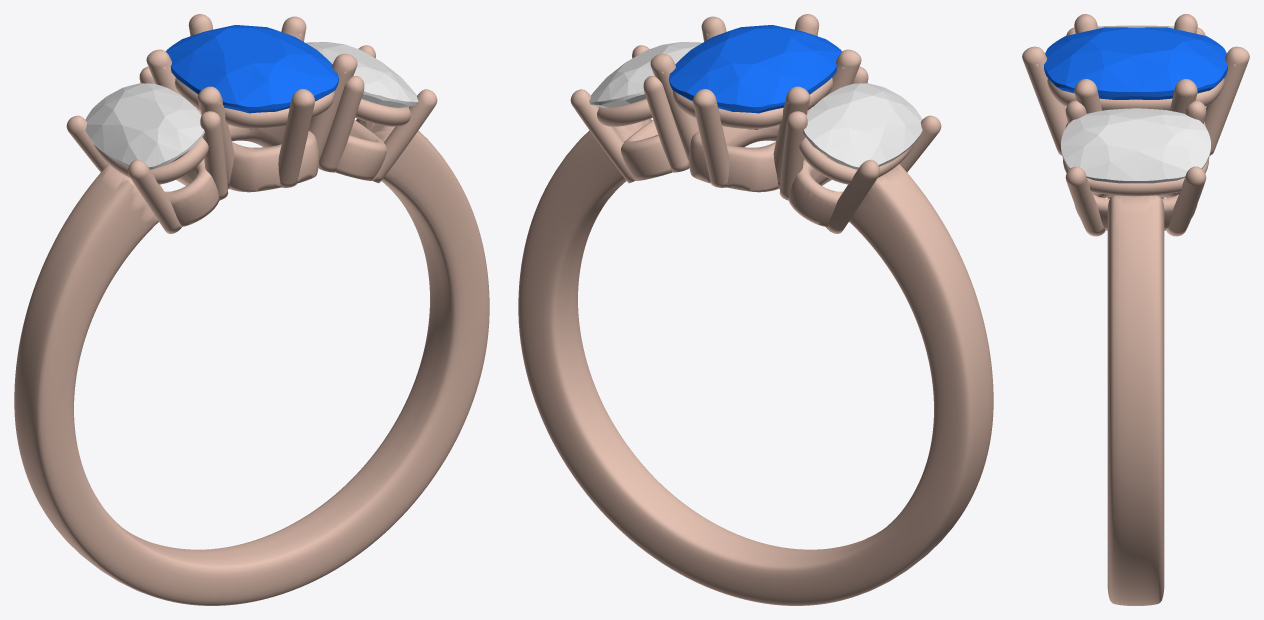
File: bluesapphire-cushion-rosegold-6prong-straightband-3stone.glb
The picture shows the model from 3 angles, left to right: view 1: azimuth 30°, elevation 25°; view 2: azimuth 150°, elevation 25°; view 3: azimuth 270°, elevation 25°; orthographic projection.
Parts seen in each view (by area): view 1: metal.001, stone.002, side.004, side.005; view 2: metal.001, stone.002, side.004, side.005; view 3: metal.001, stone.002, side.005.
Part boxes in pixels (x1,y1,x2,y2): metal.001: [14, 14, 489, 605]; stone.002: [166, 25, 338, 129]; side.004: [85, 83, 204, 169]; side.005: [306, 42, 418, 107]; metal.001: [518, 14, 993, 605]; stone.002: [669, 25, 841, 129]; side.004: [803, 83, 922, 169]; side.005: [589, 42, 701, 107]; metal.001: [1022, 14, 1249, 605]; stone.002: [1044, 27, 1227, 99]; side.005: [1061, 108, 1210, 183].
Size of the model in its own units: 20.1 by 23.04 by 8.8.
